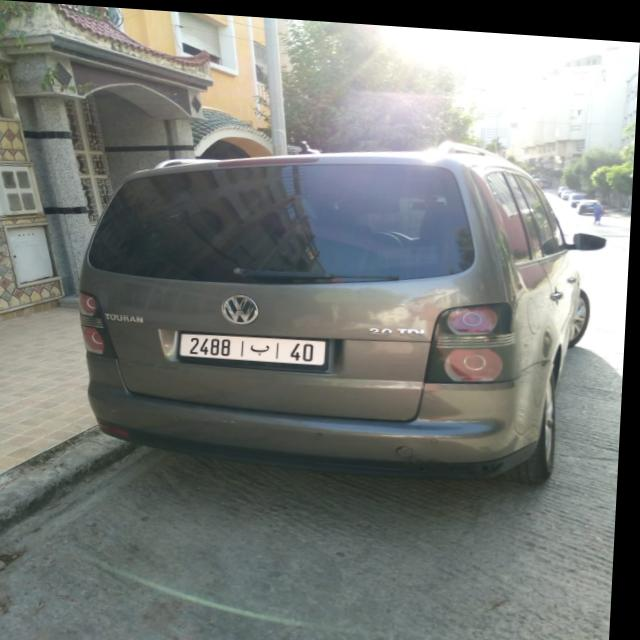License-Plate: (184, 331, 329, 360)
